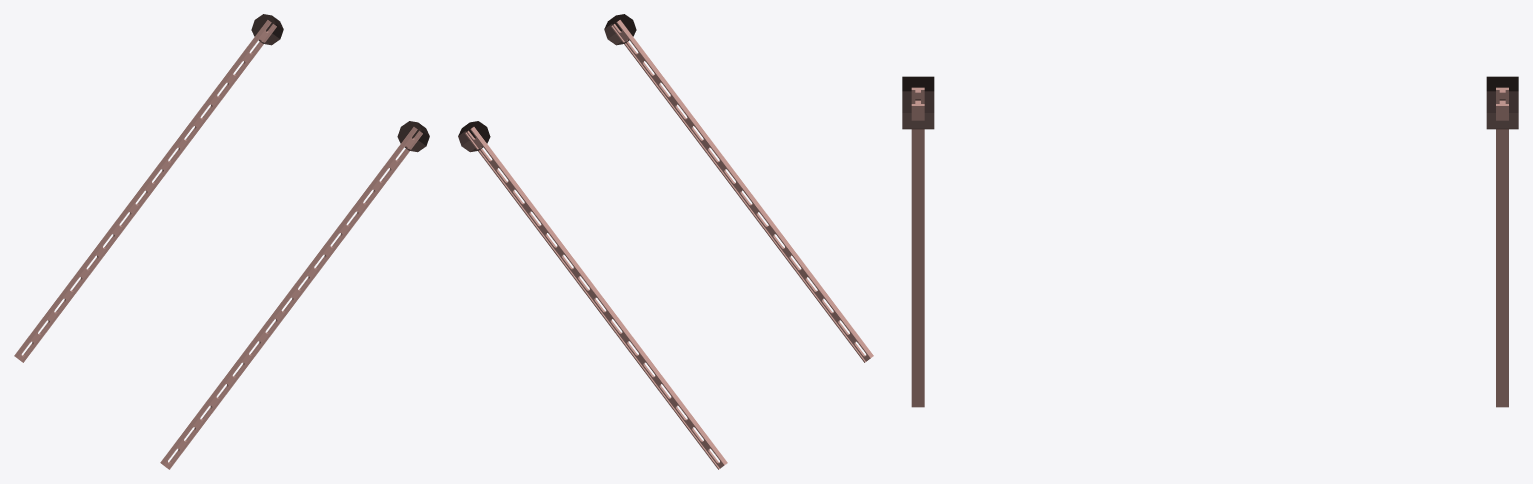
Rendered from UPDATED_beam (1) (1) 1.fbx.
3 renders of one model, left to right at view 1: azimuth 30°, elevation 25°; view 2: azimuth 150°, elevation 25°; view 3: azimuth 270°, elevation 25°, orthographic. The views are drawn at different scales.
Visible parts, largest first — view 1: Upper_bridge.002; view 2: Upper_bridge.002; view 3: Upper_bridge.002.
Boxes of the visible parts, x1,y1,x2,y2 form: Upper_bridge.002: (14,14,429,469); Upper_bridge.002: (458,14,873,469); Upper_bridge.002: (902,76,1518,407).
Bounding box in the file's own units: 1362 × 1405 × 1377.
